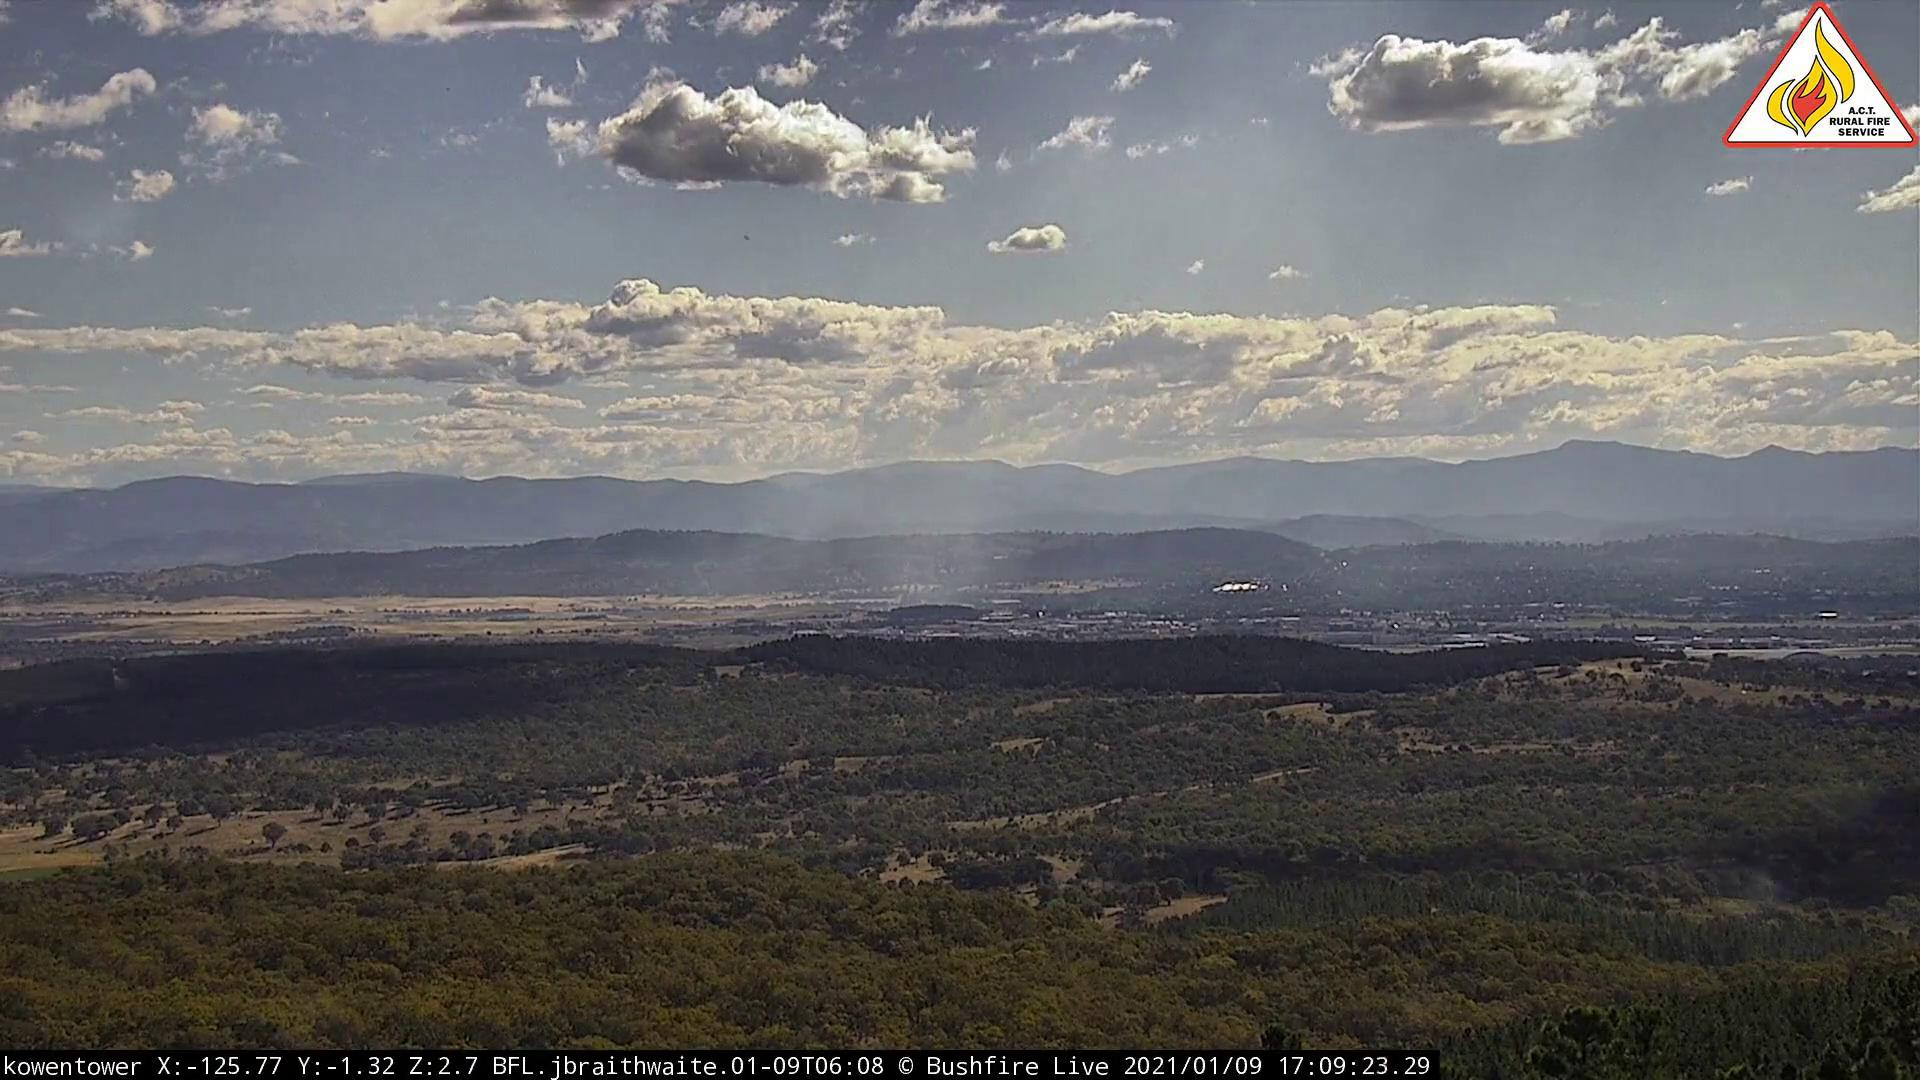Smoke: (699, 522, 1004, 612)
